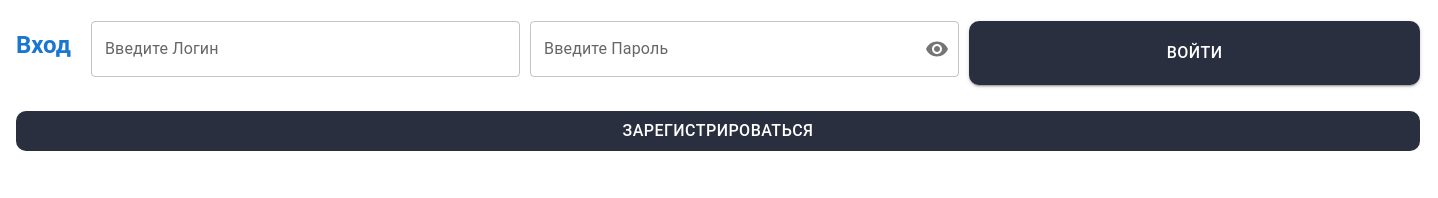
SignIn tests › SignIn validation is work
This screenshot has width=1438, height=198.
In the field labelled "Введите Логин": {"x": 306, "y": 49} top-left (91, 21), bottom-right (520, 77), type "12345"
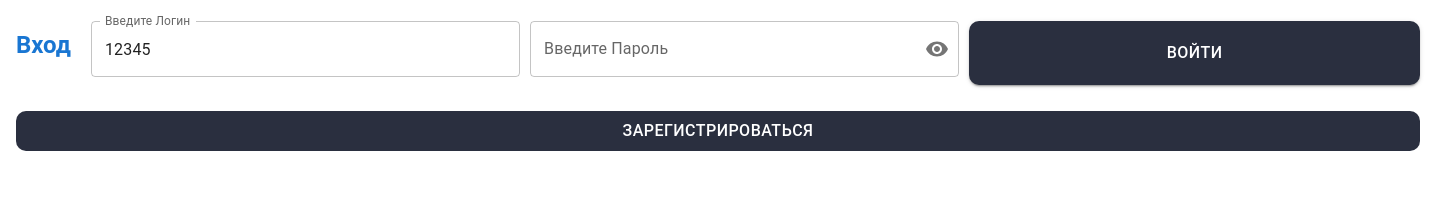
In the password field labelled "Введите Пароль": {"x": 724, "y": 49} top-left (530, 21), bottom-right (917, 77), type "123456"
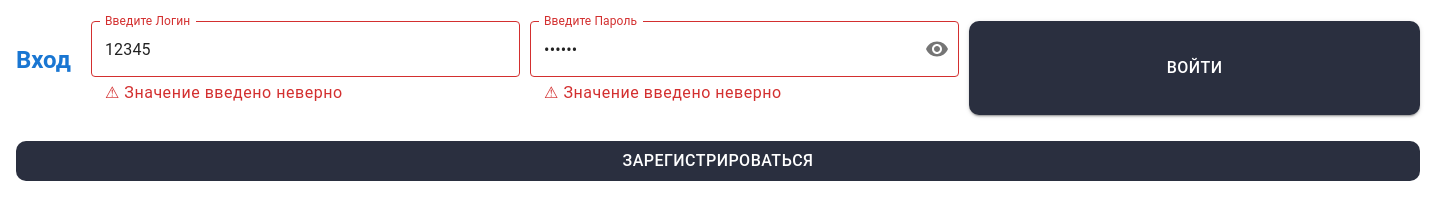
Result: the text "⚠ Значение введено неверно" is shown 2 times at top-left (105, 83), bottom-right (343, 102); top-left (544, 83), bottom-right (782, 102)
